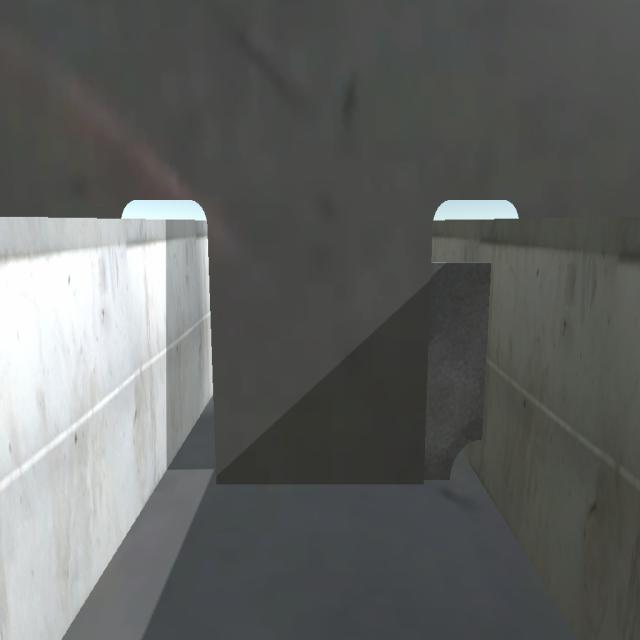fillet_hole: (449, 434, 480, 482)
fillet_yong_jeop_jang: (211, 471, 448, 489)
longi_yong_jeop_jang: (474, 257, 500, 440)
plate_behind: (427, 266, 492, 482)
